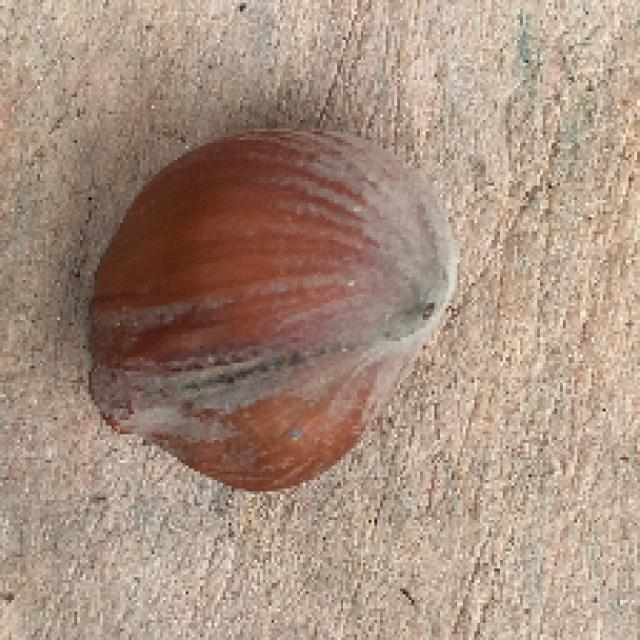QualityHazelnut: (86, 121, 457, 494)
